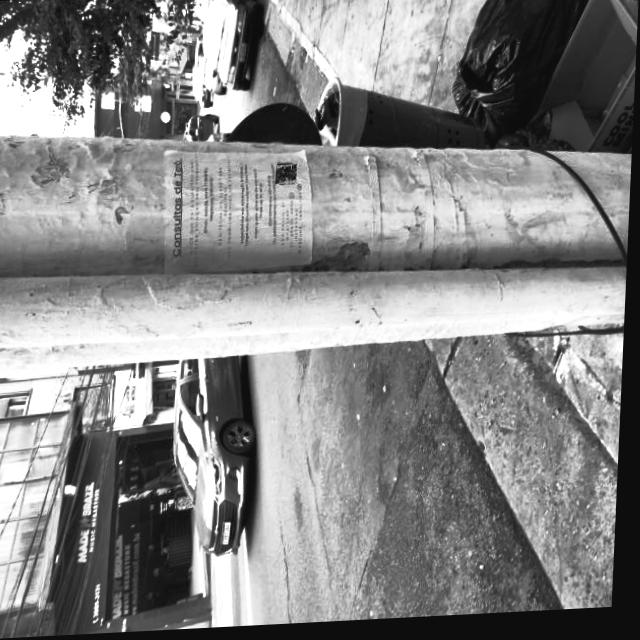qr_code: (277, 166, 299, 186)
